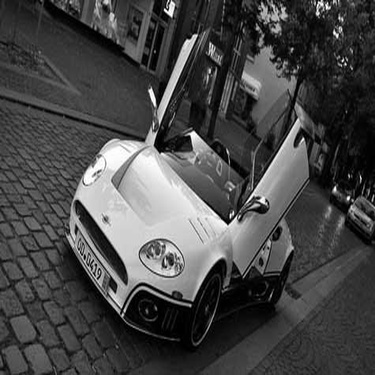car: (52, 19, 316, 351), (343, 190, 373, 251), (326, 176, 358, 210)
